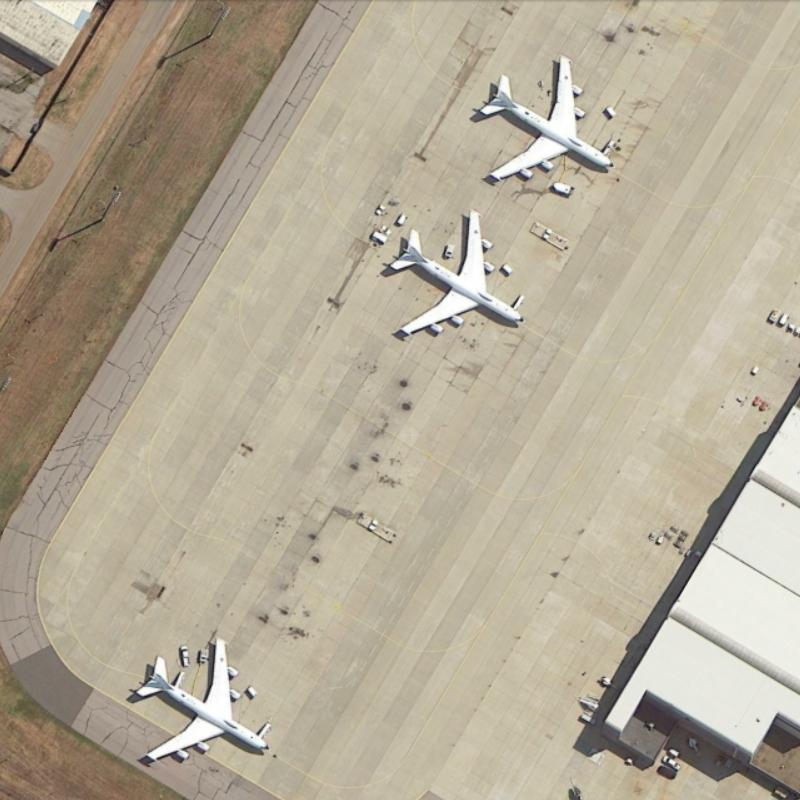A11: (122, 628, 279, 770), (466, 52, 624, 184), (381, 204, 532, 341)
